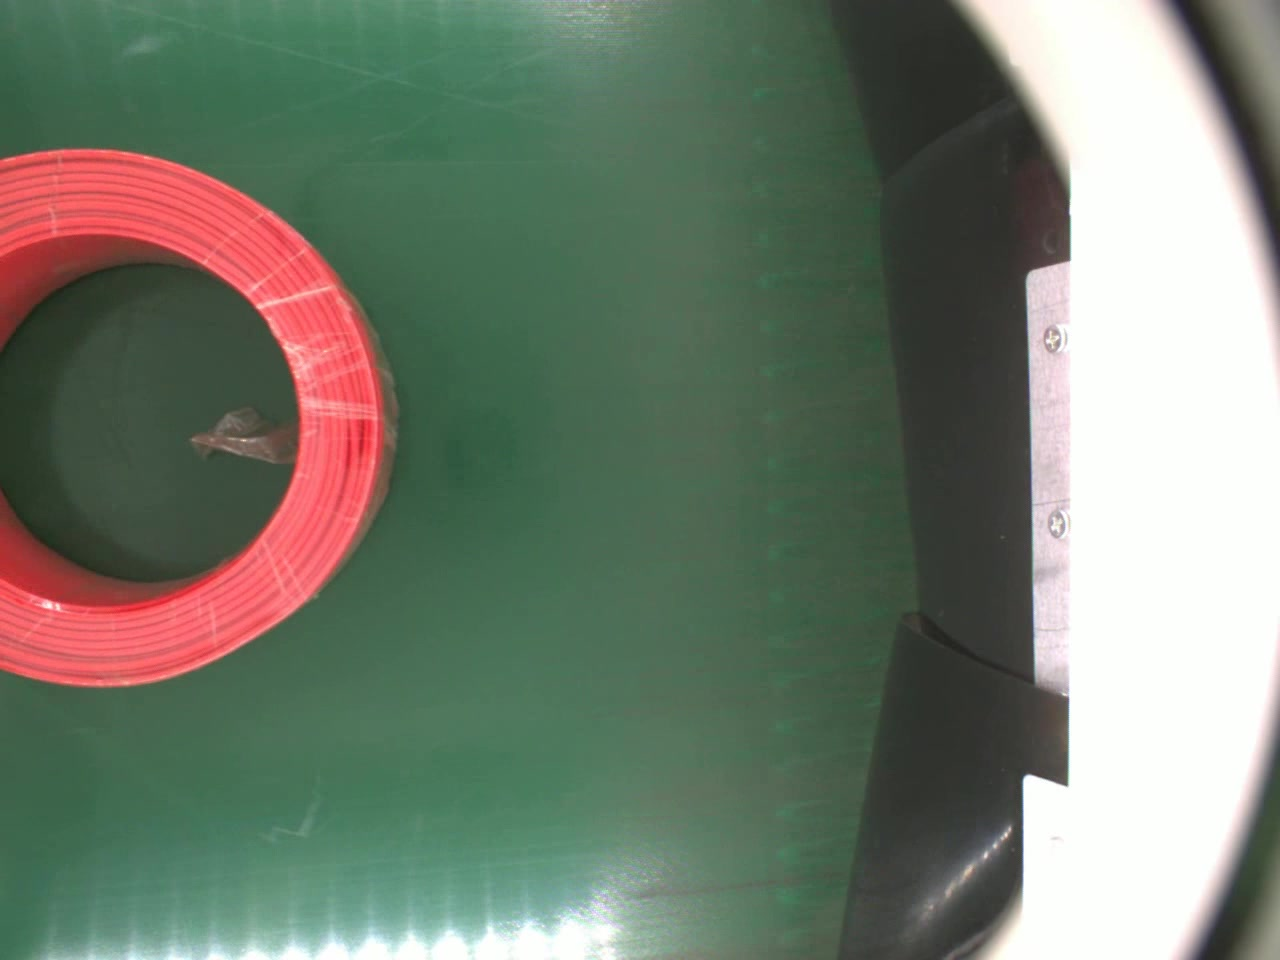red: (0, 138, 399, 689)
